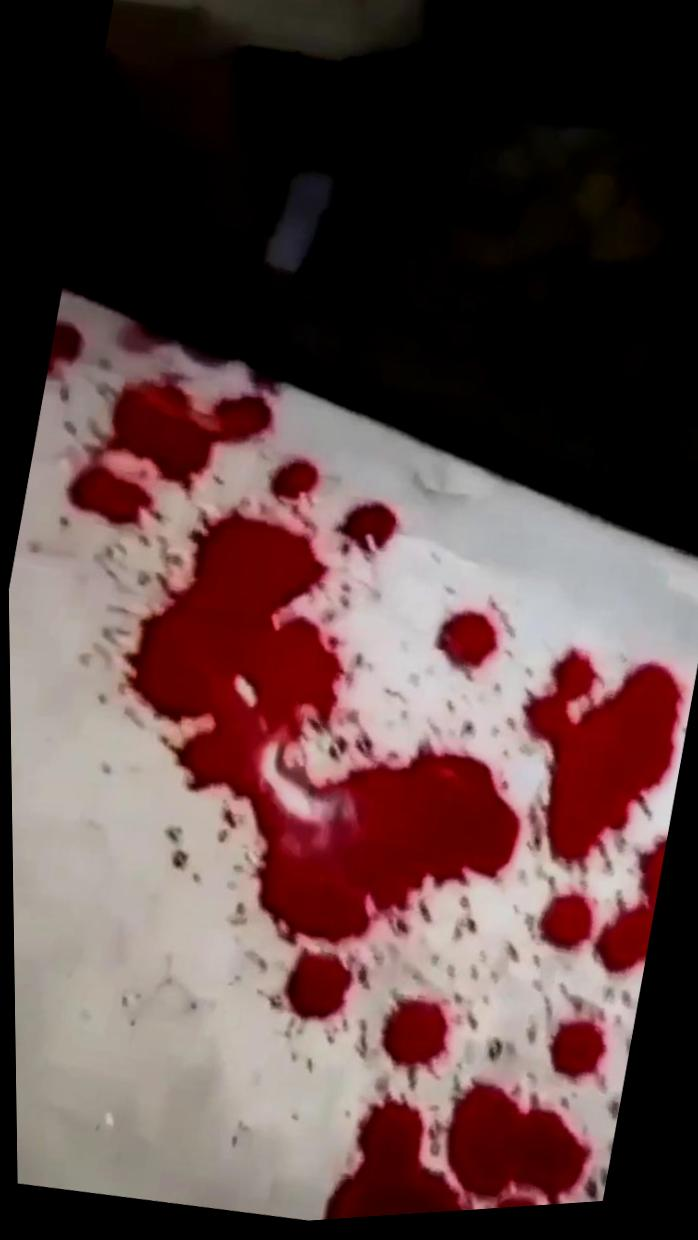Fire: (48, 317, 691, 1224)
